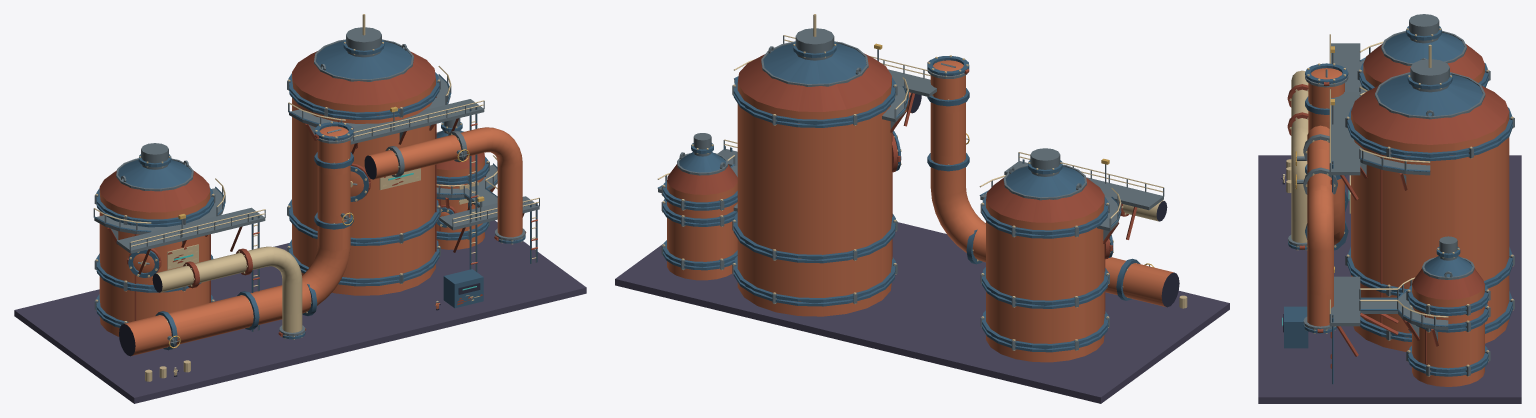
File: pipe-bank-detail-v1.glb
3 views of the same model, side by side, from view 1: azimuth 30°, elevation 25°; view 2: azimuth 150°, elevation 25°; view 3: azimuth 270°, elevation 25° (orthographic). The views are drawn at different scales.
Visible parts, largest first — view 1: pipe-bank-detail-v1; view 2: pipe-bank-detail-v1; view 3: pipe-bank-detail-v1.
Boxes of the visible parts, bbox=[...] form: pipe-bank-detail-v1: bbox=[14, 14, 586, 403]; pipe-bank-detail-v1: bbox=[615, 14, 1229, 403]; pipe-bank-detail-v1: bbox=[1258, 14, 1521, 403].
Bounding box in the file's own units: 94 × 51 × 43.2.
